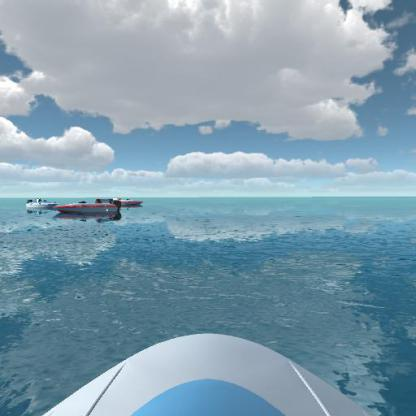usv1: (25, 194, 56, 212)
usv3: (52, 198, 122, 222), (101, 194, 146, 209)
